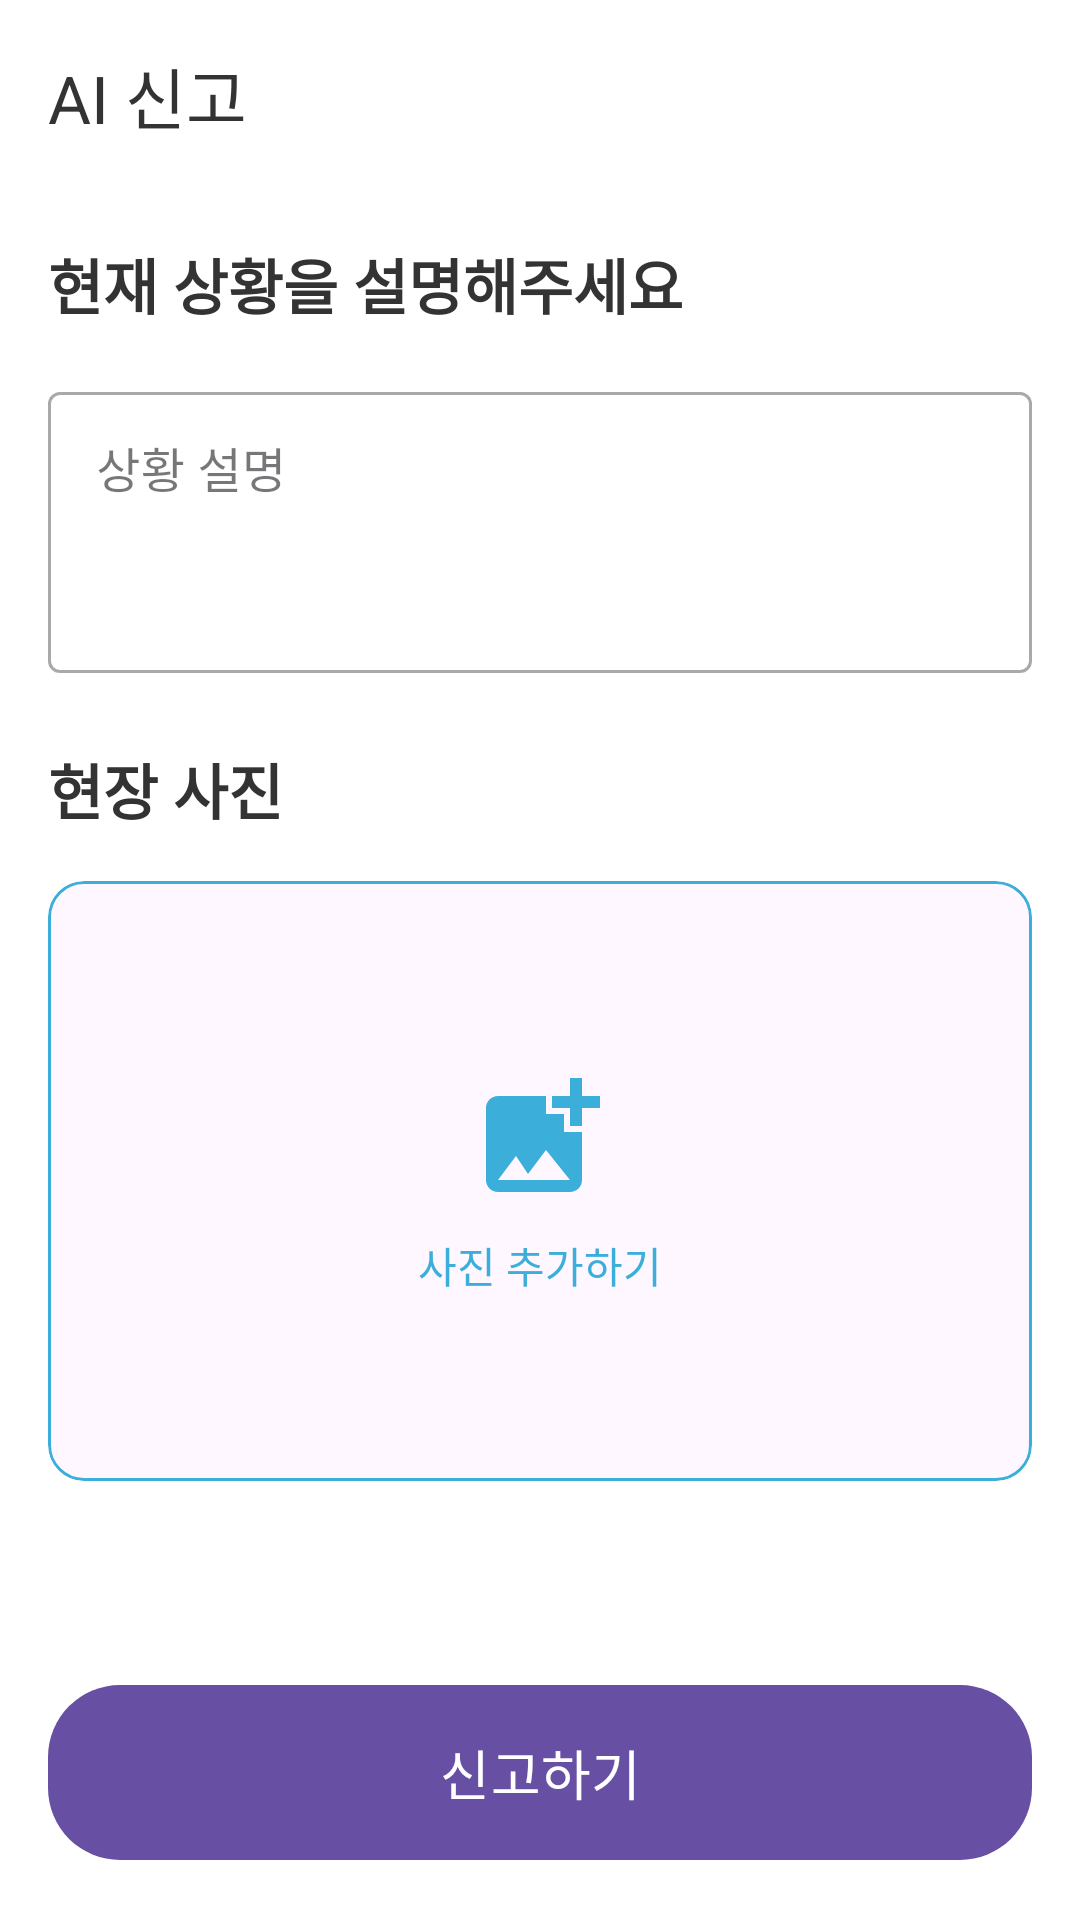

Point at icon controls on the screen. Image size 1080px x 1920px, points as point (x, y).
add photo: point (543, 1135)
